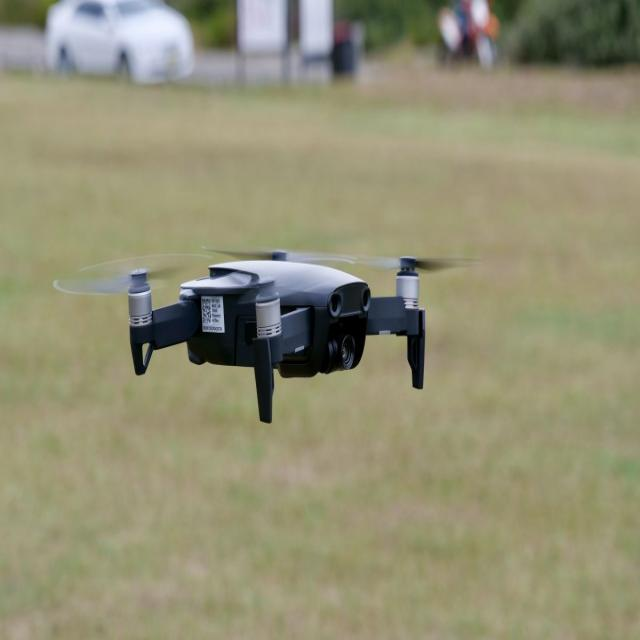drone: (26, 194, 471, 423)
